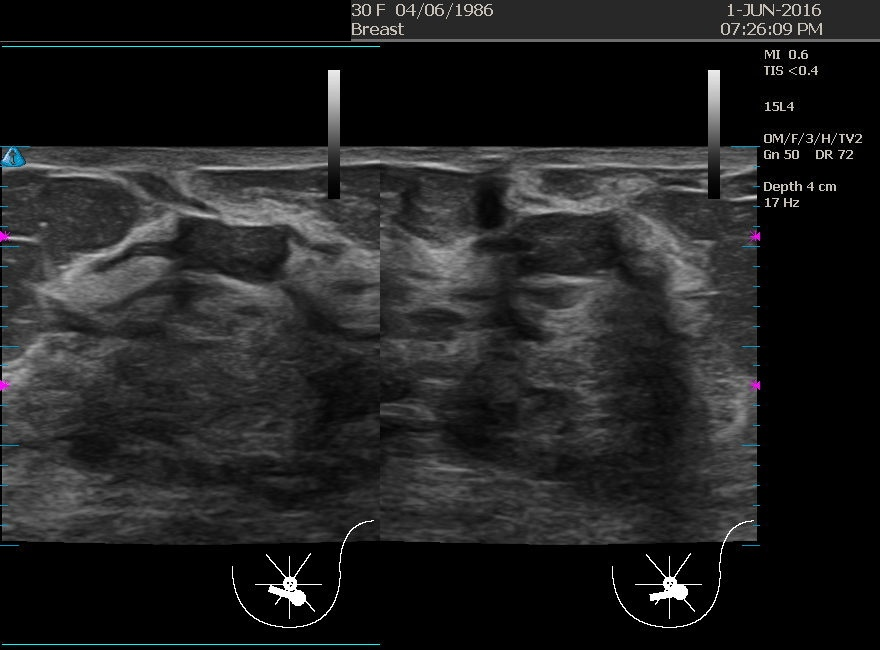BIRADS_3: (107, 150, 307, 350), (493, 194, 693, 394)
